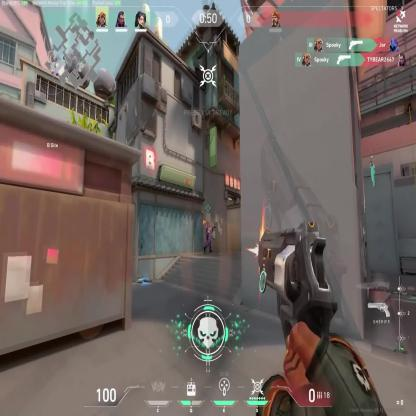enemy: (203, 220, 213, 253)
enemy_head: (208, 221, 210, 226)
